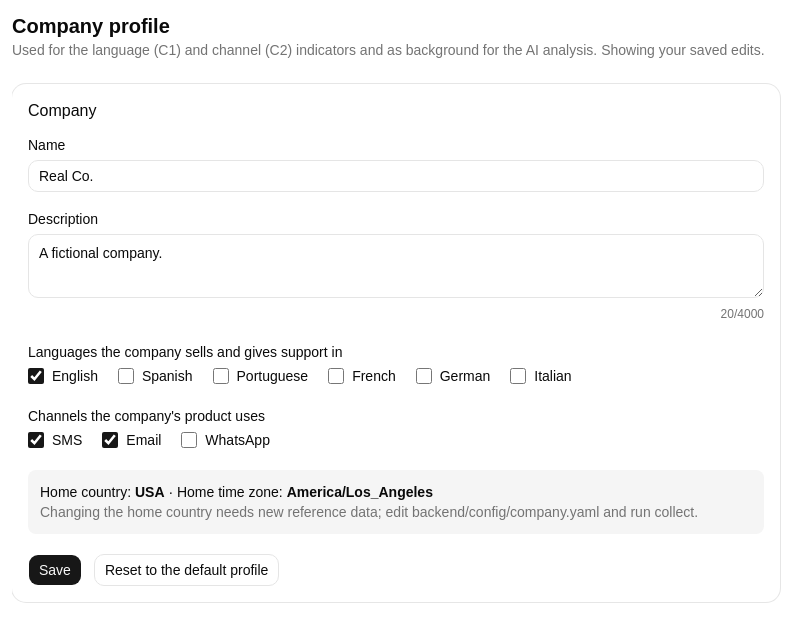
Test: reset asks for confirmation and restores the default profile
Click the button "Reset to the default profile".
click(187, 570)  # box [94,554,279,586]
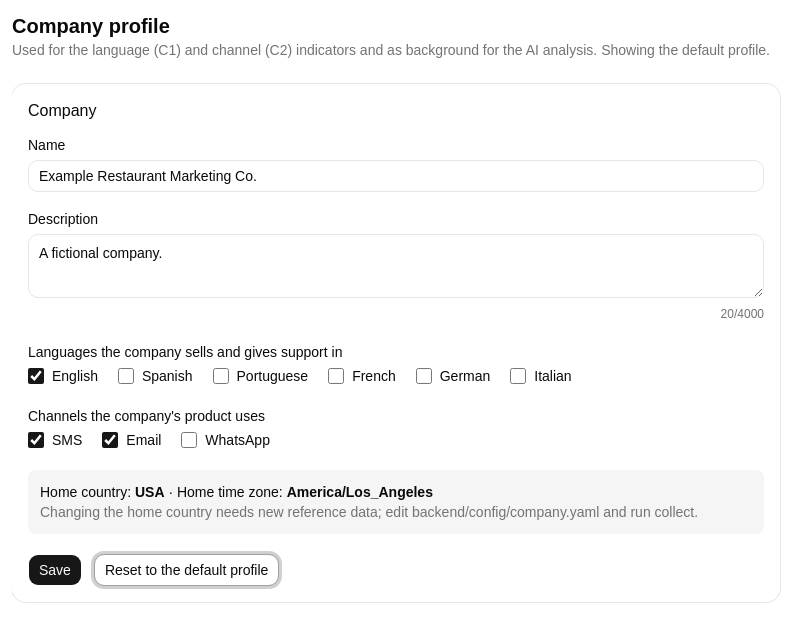
Expected: the field showing "Example Restaurant Marketing Co." is shown, [28,160,764,192]
